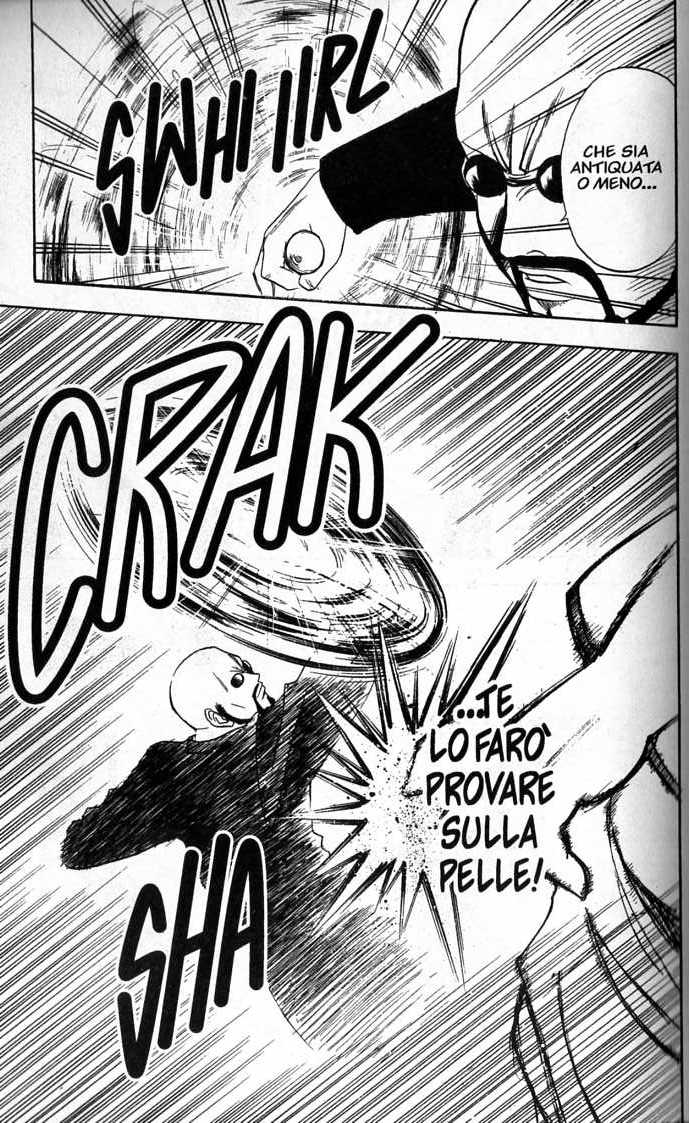Baloon: (426, 688, 557, 895), (564, 69, 683, 271)
Vignetta: (2, 306, 681, 1123), (29, 2, 686, 330)
